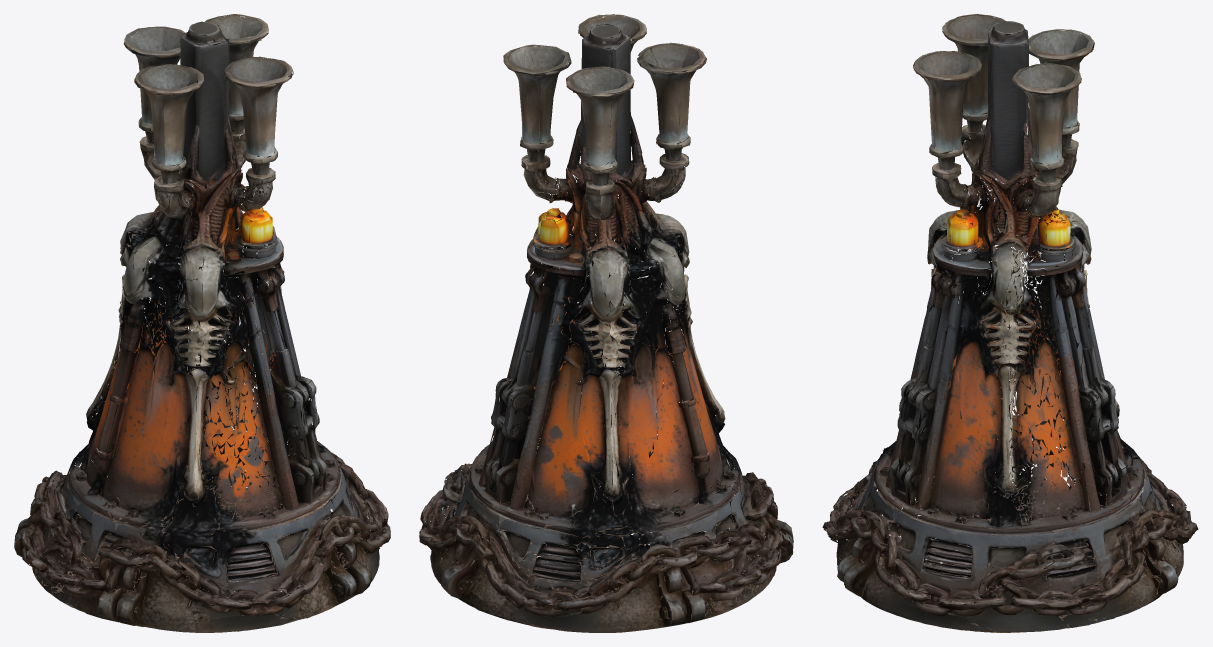
The model's file is chasm_steam_whistle_buoy.glb.
The picture shows the model from 3 angles, left to right: view 1: azimuth 30°, elevation 25°; view 2: azimuth 150°, elevation 25°; view 3: azimuth 270°, elevation 25°; orthographic projection.
Parts seen in each view (by area): view 1: node_0; view 2: node_0; view 3: node_0.
Part boxes in pixels (left/top/right/bottom): node_0: left=14, top=14, right=390, bottom=632; node_0: left=419, top=14, right=793, bottom=632; node_0: left=822, top=14, right=1198, bottom=632.
Size of the model in its own units: 0.6588 by 1.03 by 0.6589.
1 material, 1 textured.
